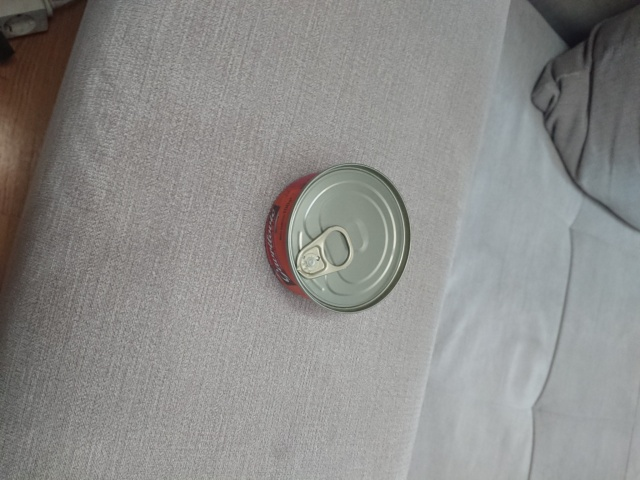Gavrilovic Pork Liver Pate 100g: (260, 160, 415, 316)
